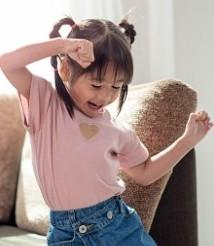Healthy: (53, 23, 147, 133)
